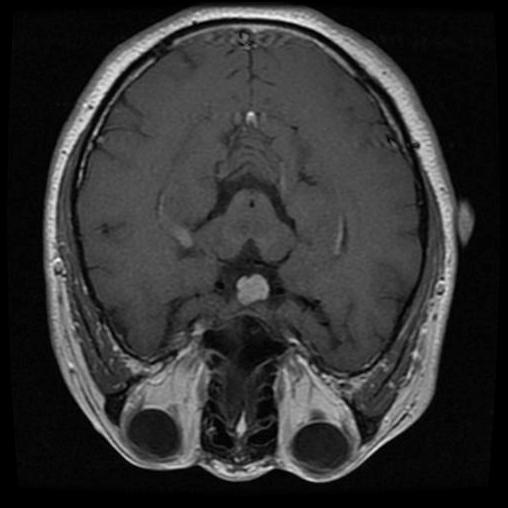Tumour-Pituitary: (239, 270, 270, 307)
